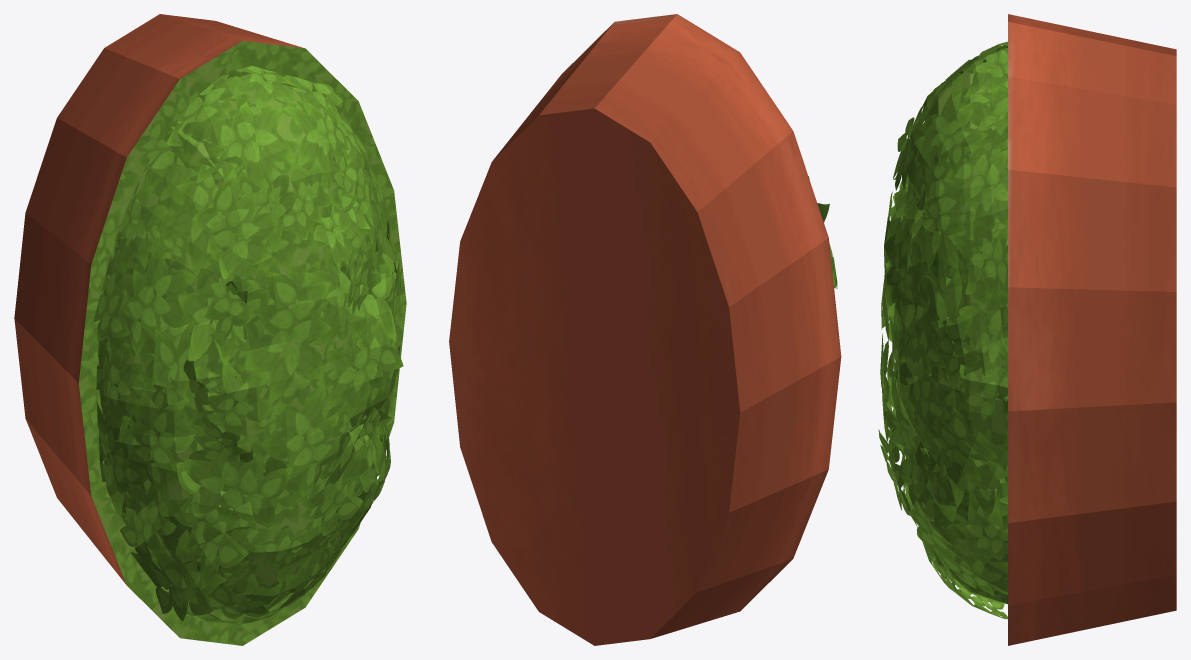
File: TerracotaPot.fbx
The picture shows the model from 3 angles, left to right: view 1: azimuth 30°, elevation 25°; view 2: azimuth 150°, elevation 25°; view 3: azimuth 270°, elevation 25°; orthographic projection.
Parts seen in each view (by area): view 1: TerracotaPot; view 2: TerracotaPot; view 3: TerracotaPot.
Boxes of the visible parts, box(x1,y1,x2,y2) form: TerracotaPot: box(14, 14, 406, 645); TerracotaPot: box(449, 14, 841, 645); TerracotaPot: box(878, 14, 1176, 645).
Bounding box in the file's own units: 2.52 × 4.42 × 1.98.
Materials: 1 (1 with a texture image).
